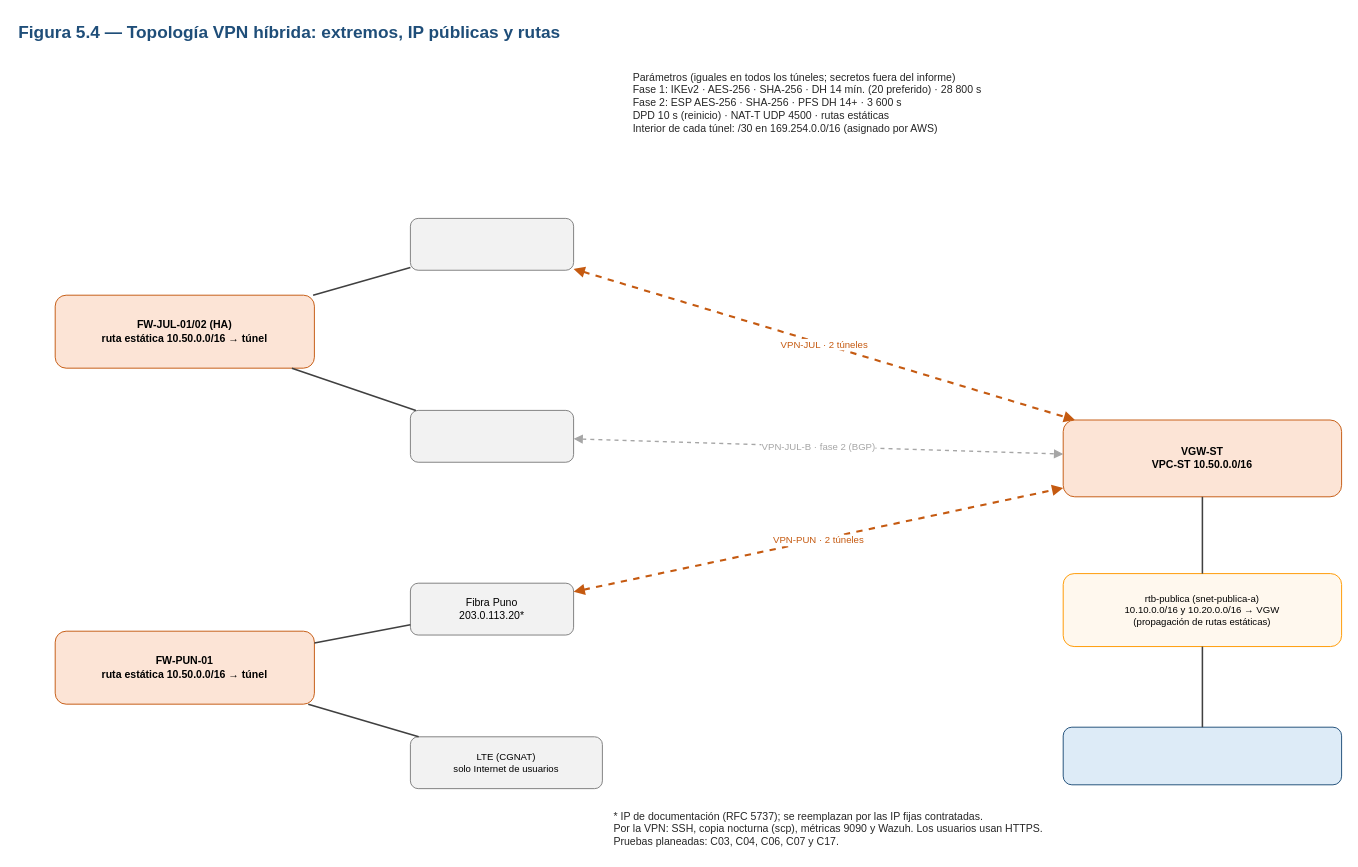
Image size: 1358x867. Some labels were removed from this diagram. Here are the shapes that lost their labels. From the top down, the box of each, then its label:
(409, 217, 574, 270): ISP-A 203.0.113.10*
(409, 409, 574, 462): ISP-B 198.51.100.10*
(1062, 726, 1342, 785): EC2-ERP-01 10.50.0.10 SSH 22 · Prometheus 9090
